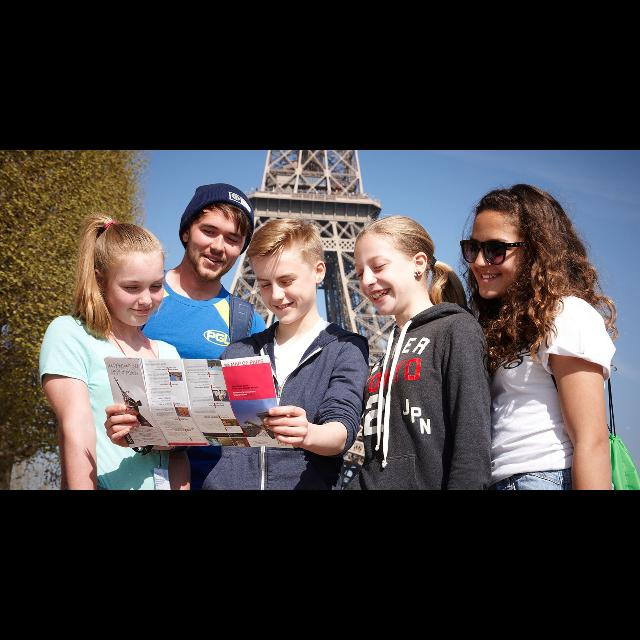head: (468, 186, 556, 302), (249, 220, 329, 326), (88, 221, 166, 327), (354, 215, 434, 317), (179, 184, 255, 282)
